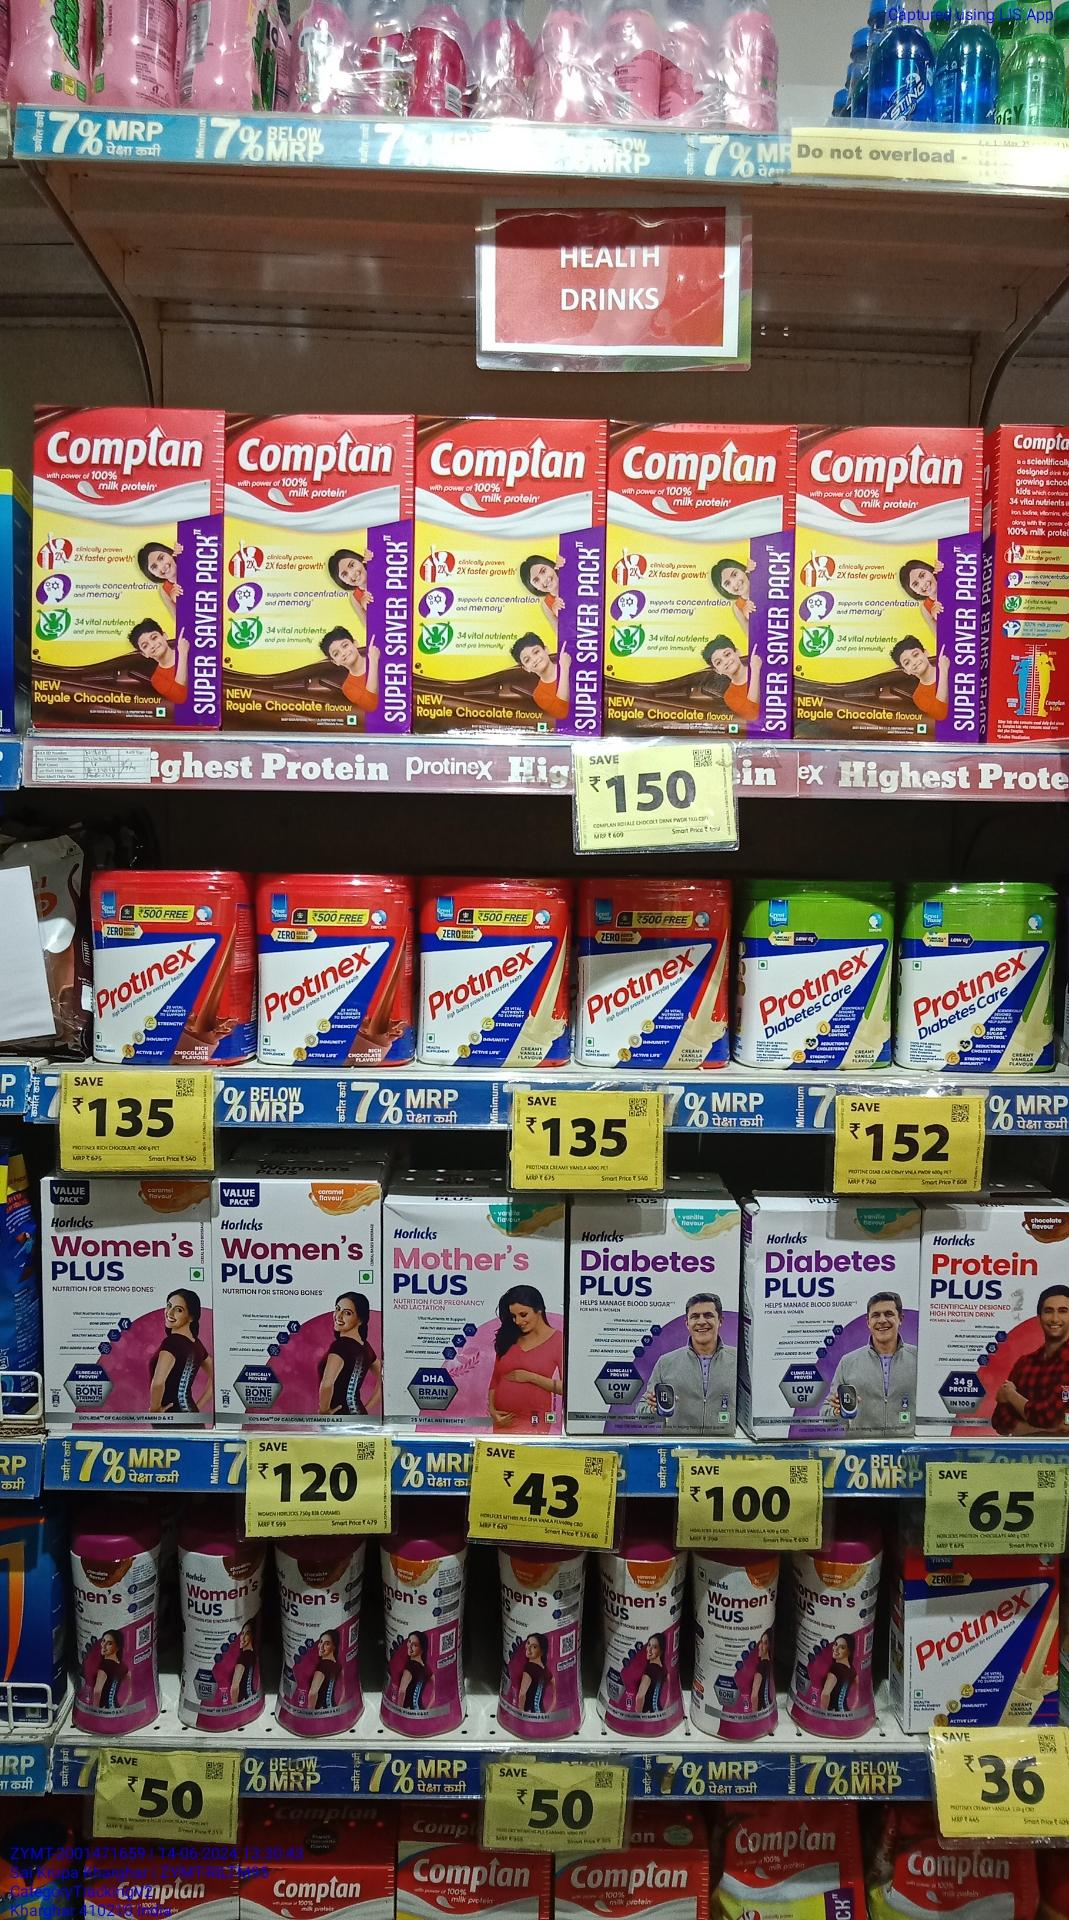COMPLAN_CHOCOLATE_1_KG_PACK: (415, 412, 600, 742), (30, 404, 220, 726), (796, 420, 981, 741), (230, 415, 407, 734), (608, 421, 789, 730)
PROTINEX_CHOCOLATE_400_G_JAR: (257, 874, 407, 1066), (92, 880, 234, 1065)
PROTINEX_VANILLA_400_G_JAR: (417, 872, 569, 1063), (575, 879, 727, 1070)
